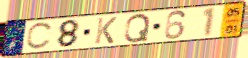1: (201, 6, 217, 38)
6: (163, 9, 188, 41)
8: (55, 18, 82, 49)
C: (25, 21, 55, 51)
K: (93, 16, 119, 45)
Q: (123, 13, 152, 44)
